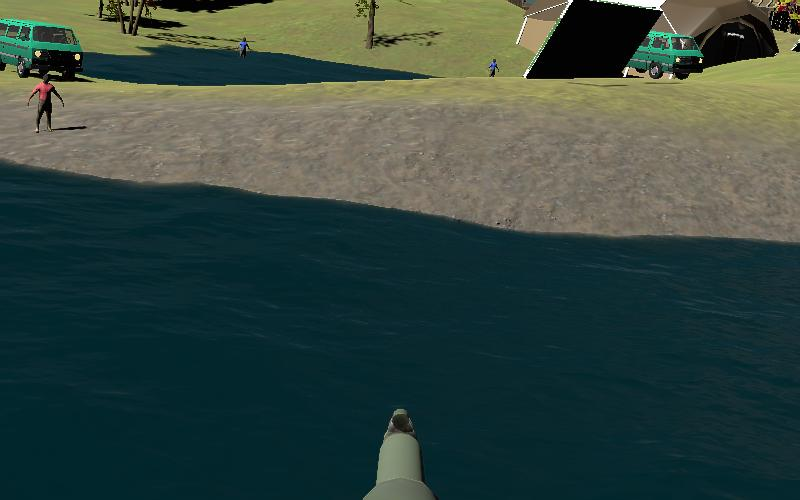Human: (27, 72, 65, 134), (236, 36, 253, 62), (486, 56, 503, 81)
car: (0, 18, 83, 81), (624, 29, 709, 82), (766, 0, 800, 35)
